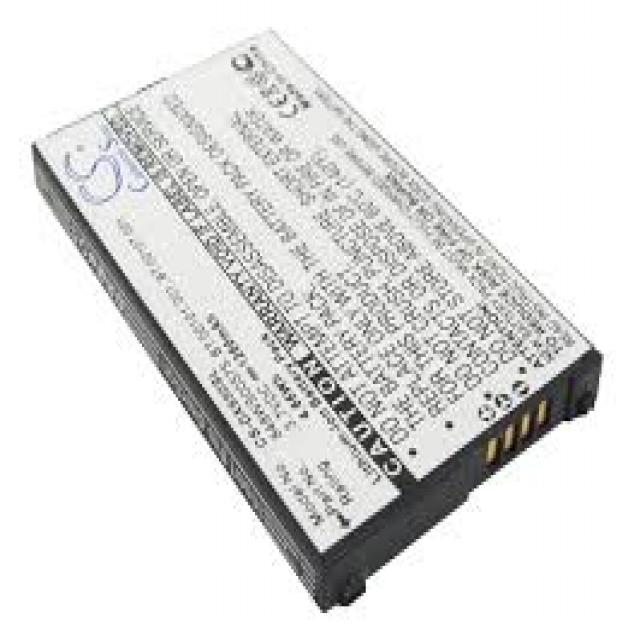non-organic waste: (30, 21, 604, 613)
